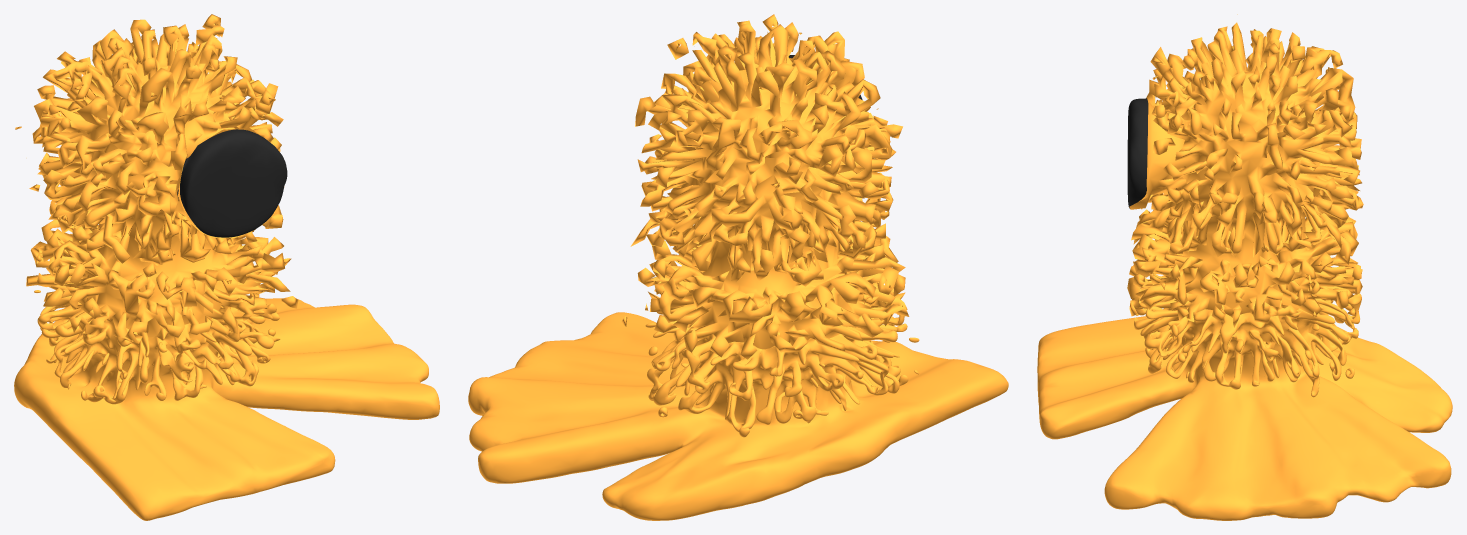
File: kora.glb
The picture shows the model from 3 angles, left to right: view 1: azimuth 30°, elevation 25°; view 2: azimuth 150°, elevation 25°; view 3: azimuth 270°, elevation 25°; orthographic projection. The views are drawn at different scales.
Visible parts, largest first — view 1: Base_Fan, Kora_Body, Cyclops_Eye; view 2: Kora_Body, Base_Fan; view 3: Base_Fan, Kora_Body, Cyclops_Eye.
Part boxes in pixels (x1,y1,x2,y2): Base_Fan: [14, 285, 439, 520]; Kora_Body: [15, 14, 298, 343]; Cyclops_Eye: [177, 129, 287, 237]; Kora_Body: [621, 14, 909, 359]; Base_Fan: [468, 306, 1008, 520]; Base_Fan: [1037, 266, 1452, 520]; Kora_Body: [1127, 14, 1363, 327]; Cyclops_Eye: [1127, 98, 1148, 208].
Bounding box in the file's own units: 1.98 × 1.96 × 1.99.
